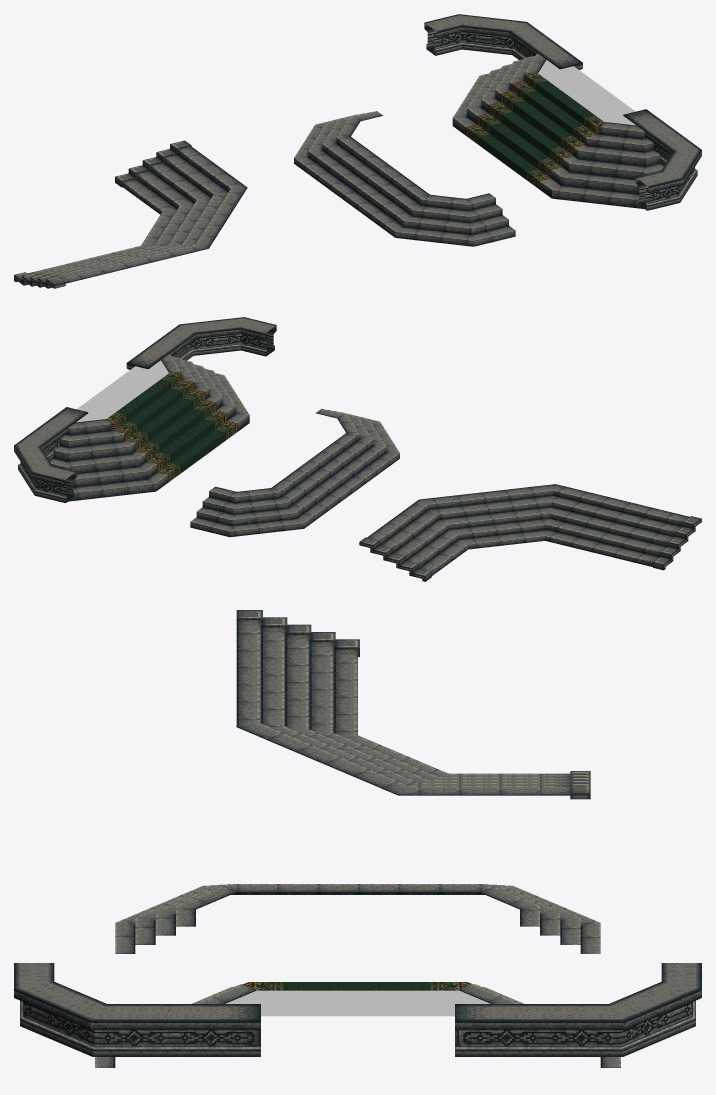
File: EnvMdrMD_Daiseidou_B_Stairs_B_A_Carpet.FBX
The picture shows the model from 3 angles, top to bottom: view 1: azimuth 30°, elevation 25°; view 2: azimuth 150°, elevation 25°; view 3: azimuth 270°, elevation 25°; orthographic projection. The views are drawn at different scales.
Visible parts, largest first — view 1: EnvMdrMD_Daiseidou_B_Stairs_B_A_Carpet, EnvMdrMD_Daiseidou_B_Stairs_B_B, EnvMdrMD_Daiseidou_B_Stairs_C; view 2: EnvMdrMD_Daiseidou_B_Stairs_B_A_Carpet, EnvMdrMD_Daiseidou_B_Stairs_C, EnvMdrMD_Daiseidou_B_Stairs_B_B; view 3: EnvMdrMD_Daiseidou_B_Stairs_B_A_Carpet, EnvMdrMD_Daiseidou_B_Stairs_C, EnvMdrMD_Daiseidou_B_Stairs_B_B.
Boxes of the visible parts, x1,y1,x2,y2 form: EnvMdrMD_Daiseidou_B_Stairs_B_A_Carpet: [424, 14, 701, 210]; EnvMdrMD_Daiseidou_B_Stairs_B_B: [294, 111, 515, 246]; EnvMdrMD_Daiseidou_B_Stairs_C: [14, 140, 247, 288]; EnvMdrMD_Daiseidou_B_Stairs_B_A_Carpet: [14, 317, 276, 502]; EnvMdrMD_Daiseidou_B_Stairs_C: [359, 484, 701, 581]; EnvMdrMD_Daiseidou_B_Stairs_B_B: [190, 408, 399, 537]; EnvMdrMD_Daiseidou_B_Stairs_B_A_Carpet: [14, 963, 701, 1067]; EnvMdrMD_Daiseidou_B_Stairs_C: [236, 610, 590, 799]; EnvMdrMD_Daiseidou_B_Stairs_B_B: [115, 884, 600, 953].
Bounding box in the file's own units: 2618 × 205 × 1700.
